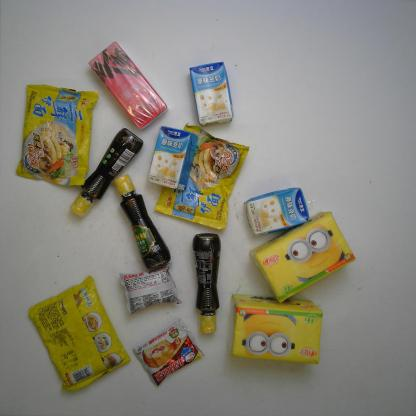Dessert: (131, 318, 205, 387), (119, 262, 183, 316)
Instant Drink: (88, 42, 169, 130)
Instant Noodles: (28, 274, 131, 393), (154, 122, 250, 230), (16, 84, 99, 186)
Milk: (147, 124, 198, 192), (243, 186, 310, 236), (189, 61, 235, 127)
Seasoner: (68, 127, 144, 219), (113, 174, 172, 271), (192, 233, 222, 334)
Tissue: (249, 211, 356, 303), (228, 294, 323, 364)
